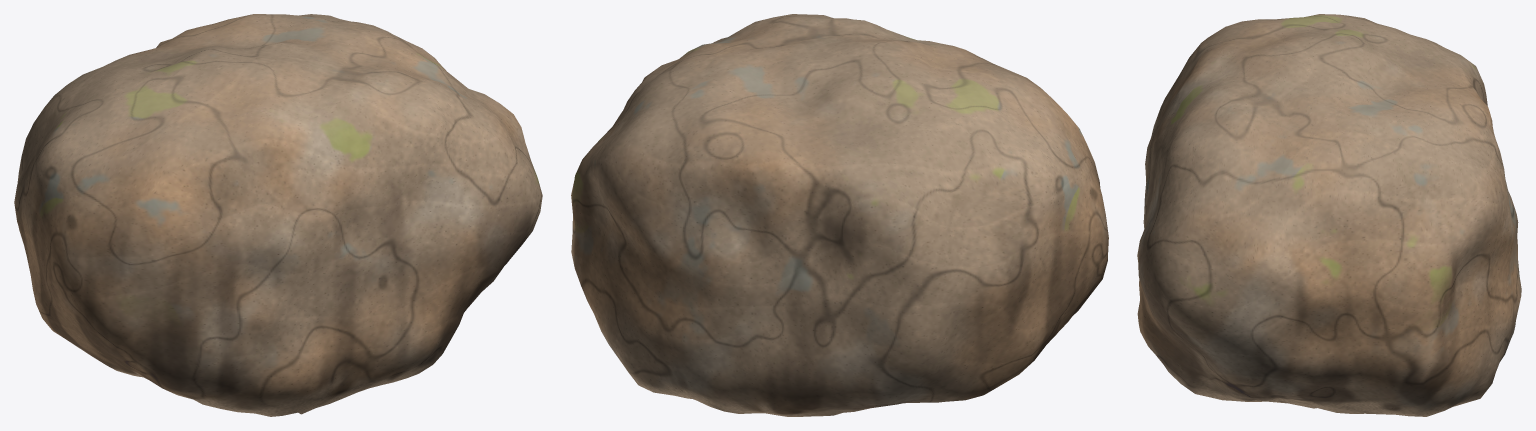
File: rock_b.glb
The picture shows the model from 3 angles, left to right: view 1: azimuth 30°, elevation 25°; view 2: azimuth 150°, elevation 25°; view 3: azimuth 270°, elevation 25°; orthographic projection. The views are drawn at different scales.
Parts seen in each view (by area): view 1: rock_b; view 2: rock_b; view 3: rock_b.
Part boxes in pixels (<box>): rock_b: <box>14,14,542,416</box>; rock_b: <box>571,14,1108,416</box>; rock_b: <box>1137,14,1521,416</box>.
Bounding box in the file's own units: 1.63 × 1.05 × 1.23.
Materials: 1 (1 with a texture image).
